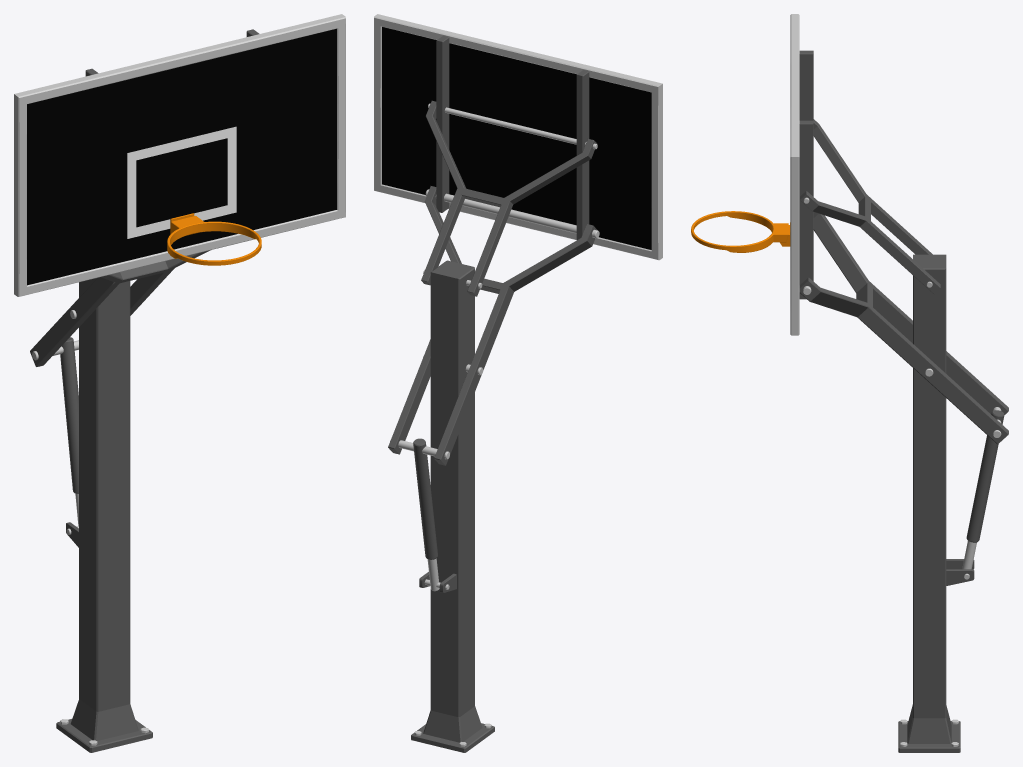
File: hoop.glb
3 views of the same model, side by side, from view 1: azimuth 30°, elevation 25°; view 2: azimuth 150°, elevation 25°; view 3: azimuth 270°, elevation 25° (orthographic). The views are drawn at different scales.
Visible parts, largest first — view 1: node_Hoop01_-82082_1; view 2: node_Hoop01_-82082_1; view 3: node_Hoop01_-82082_1.
Part boxes in pixels (x1,y1,x2,y2): node_Hoop01_-82082_1: (14,14,345,752); node_Hoop01_-82082_1: (374,14,662,752); node_Hoop01_-82082_1: (691,14,1008,752).
Size of the model in its own units: 0.8653 by 1.85 by 0.8134.
